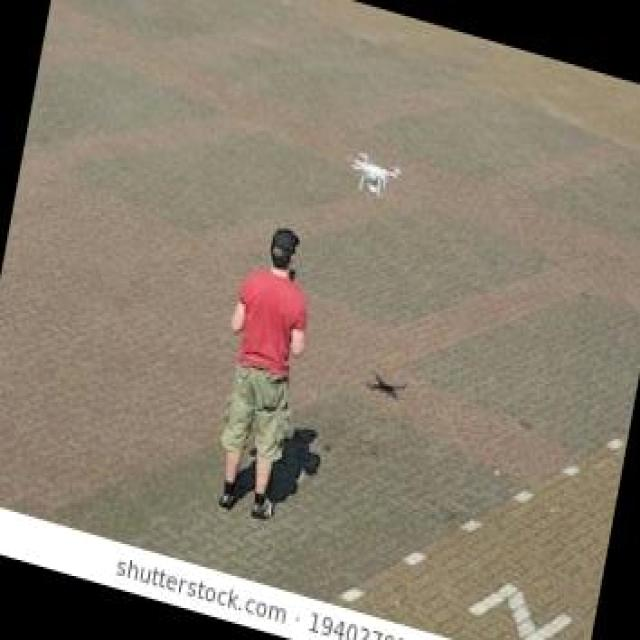drone: (342, 143, 401, 204)
